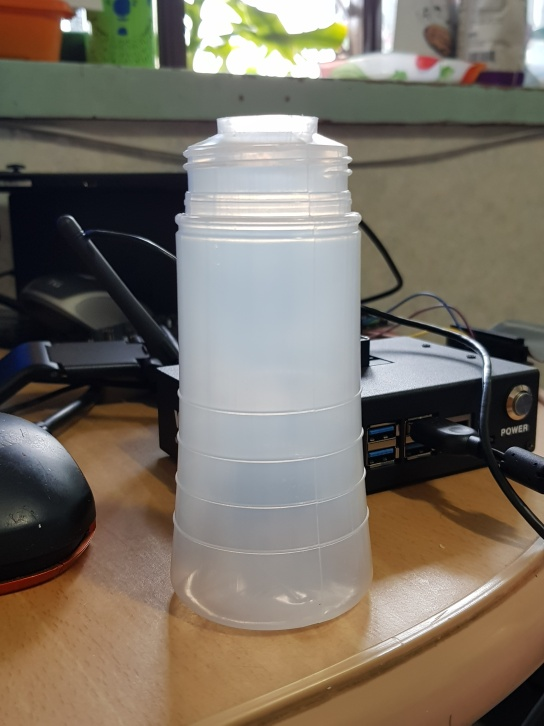Plastic: (167, 112, 376, 639)
